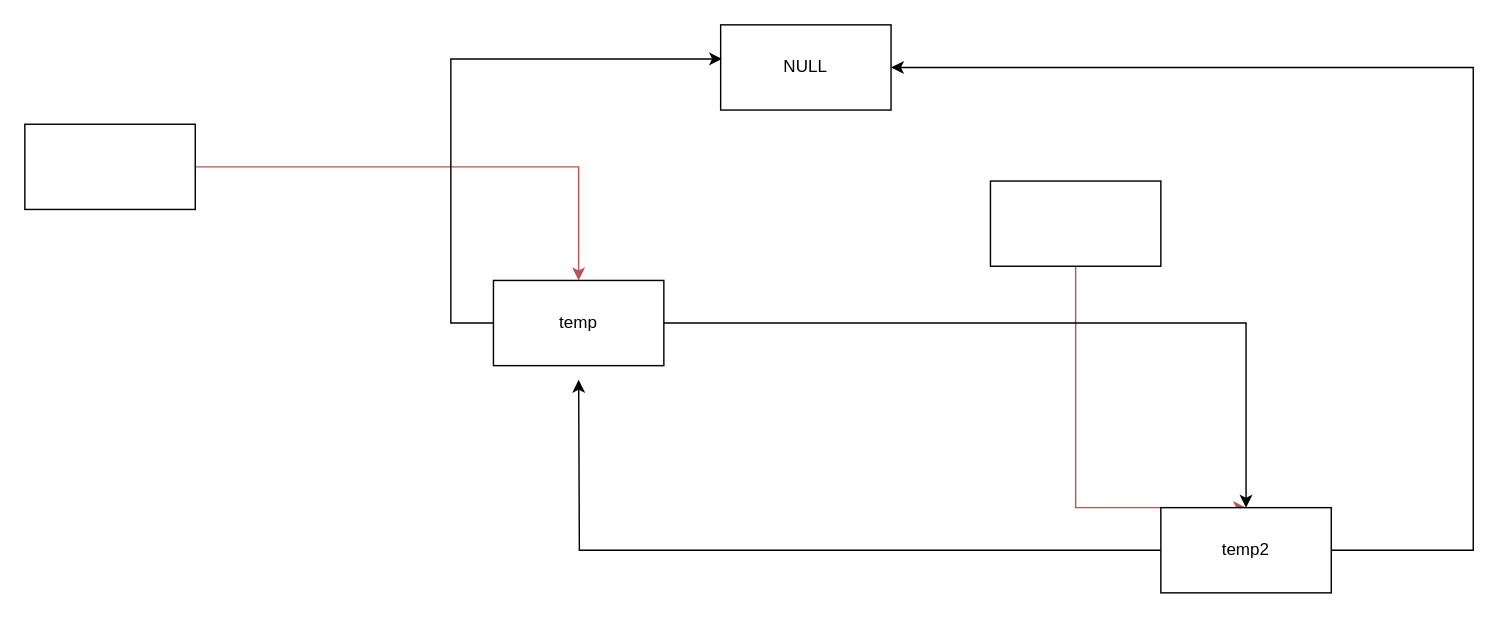
The diagram is 1509 pixels wide and 618 high, and some of its shapes have lost their labels. Each missing label, with the box of its shape:
head: (23, 123, 195, 209)
rear: (989, 180, 1161, 266)
